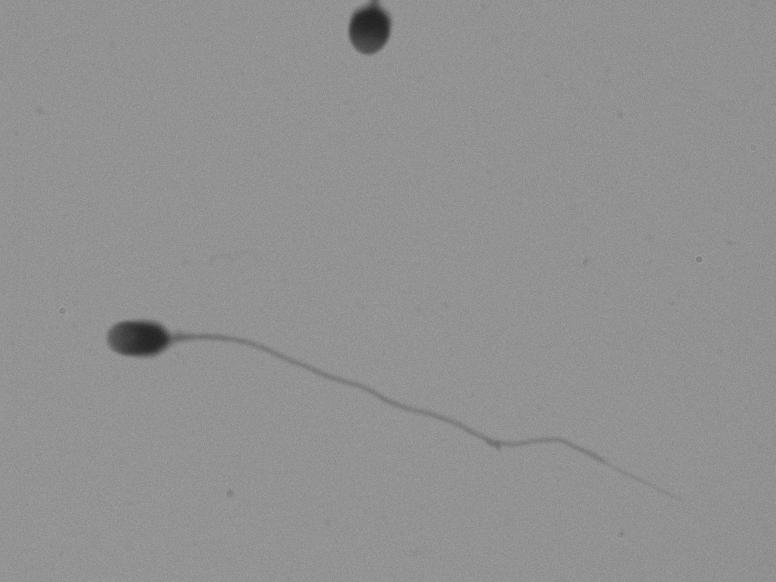Normal: (56, 306, 708, 508)
